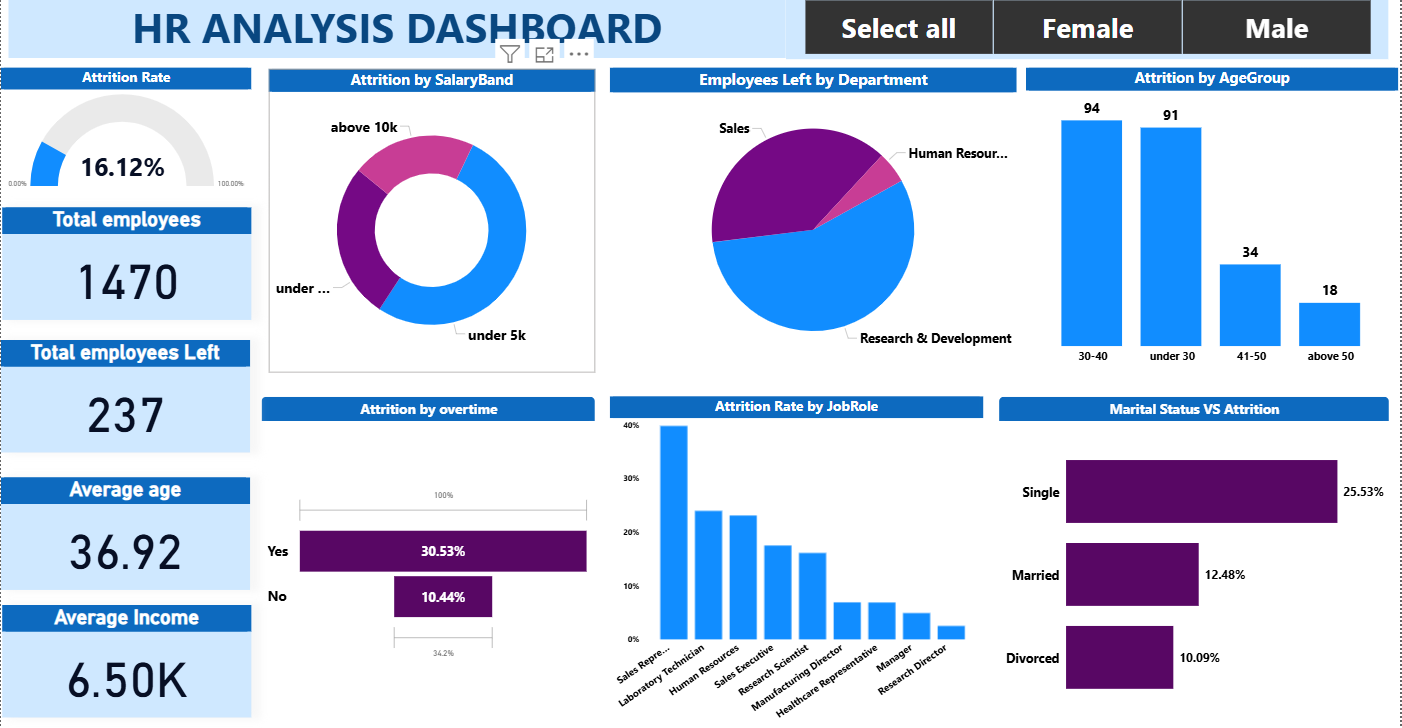

The dashboard page shown, as its layout file describes it:
{"tool":"powerbi","page":{"name":"Page 1","canvas":[1900,1000],"ordinal":0},"visuals":[{"type":"textbox","box":[10.9,0,1056.4,85.5],"z":0},{"type":"barChart","title":"Marital Status VS Attrition","fields":{"Category":["WA_Fn-UseC_-HR-Employee-Attrition.MaritalStatus"],"Y":["WA_Fn-UseC_-HR-Employee-Attrition.Attrition Rate"]},"box":[1354.5,545.5,530.9,454.5],"z":1000},{"type":"clusteredColumnChart","fields":{"Category":["WA_Fn-UseC_-HR-Employee-Attrition.JobRole"],"Y":["WA_Fn-UseC_-HR-Employee-Attrition.Attrition Rate"]},"box":[827.3,545.5,507.3,454.5],"z":2000},{"type":"pieChart","fields":{"Category":["WA_Fn-UseC_-HR-Employee-Attrition.Department"],"Y":["WA_Fn-UseC_-HR-Employee-Attrition.Employees Left"]},"box":[827.3,98.2,552.7,412.7],"z":3000},{"type":"clusteredColumnChart","title":"Attrition by AgeGroup","fields":{"Category":["WA_Fn-UseC_-HR-Employee-Attrition.age bar"],"Y":["WA_Fn-UseC_-HR-Employee-Attrition.Employees Left"]},"box":[1393,98.6,505.6,412.7],"z":4000},{"type":"gauge","title":"Attrition Rate","fields":{"Y":["WA_Fn-UseC_-HR-Employee-Attrition.Attrition Rate"]},"box":[0,98.2,340,178.2],"z":5000},{"type":"funnel","title":"Attrition by overtime","fields":{"Category":["WA_Fn-UseC_-HR-Employee-Attrition.OverTime"],"Y":["WA_Fn-UseC_-HR-Employee-Attrition.Attrition Rate"]},"box":[352.7,545.5,454.5,454.5],"z":6000},{"type":"card","title":"Total employees","fields":{"Values":["WA_Fn-UseC_-HR-Employee-Attrition.Employees"]},"box":[1.8,289.1,338.2,152.7],"z":7000},{"type":"donutChart","title":"Attrition by SalaryBand","fields":{"Category":["WA_Fn-UseC_-HR-Employee-Attrition.SalarybandA"],"Y":["WA_Fn-UseC_-HR-Employee-Attrition.Attrition Rate"]},"box":[363.6,100,443.6,412.7],"z":8000},{"type":"card","title":"Total employees Left","fields":{"Values":["WA_Fn-UseC_-HR-Employee-Attrition.Employees Left"]},"box":[0,469.1,338.2,152.7],"z":9000},{"type":"card","title":"Average Income","fields":{"Values":["Avg(WA_Fn-UseC_-HR-Employee-Attrition.MonthlyIncome)"]},"box":[1.8,829.1,338.2,152.7],"z":10000},{"type":"card","title":"Average age","fields":{"Values":["Avg(WA_Fn-UseC_-HR-Employee-Attrition.Age)"]},"box":[0,656.4,338.2,152.7],"z":11000},{"type":"slicer","fields":{"Values":["WA_Fn-UseC_-HR-Employee-Attrition.Gender"]},"box":[1067.3,0,818.2,87.3],"z":12000}]}

Visuals, with their boxes in screenshot pixels (x1, y1, x2, y2), scaled from the page's 1900x1000 canvas onto the 1402x728 screenshot:
textbox: (8, 0, 788, 62)
"Marital Status VS Attrition" barChart: (999, 397, 1391, 727)
clusteredColumnChart - WA_Fn-UseC_-HR-Employee-Attrition.JobRole x WA_Fn-UseC_-HR-Employee-Attrition.Attrition Rate: (610, 397, 985, 727)
pieChart - WA_Fn-UseC_-HR-Employee-Attrition.Department x WA_Fn-UseC_-HR-Employee-Attrition.Employees Left: (610, 71, 1018, 372)
"Attrition by AgeGroup" clusteredColumnChart: (1028, 72, 1401, 372)
"Attrition Rate" gauge: (0, 71, 251, 201)
"Attrition by overtime" funnel: (260, 397, 596, 727)
"Total employees" card: (1, 210, 251, 322)
"Attrition by SalaryBand" donutChart: (268, 73, 596, 373)
"Total employees Left" card: (0, 342, 250, 453)
"Average Income" card: (1, 604, 251, 715)
"Average age" card: (0, 478, 250, 589)
slicer - WA_Fn-UseC_-HR-Employee-Attrition.Gender: (788, 0, 1391, 64)
